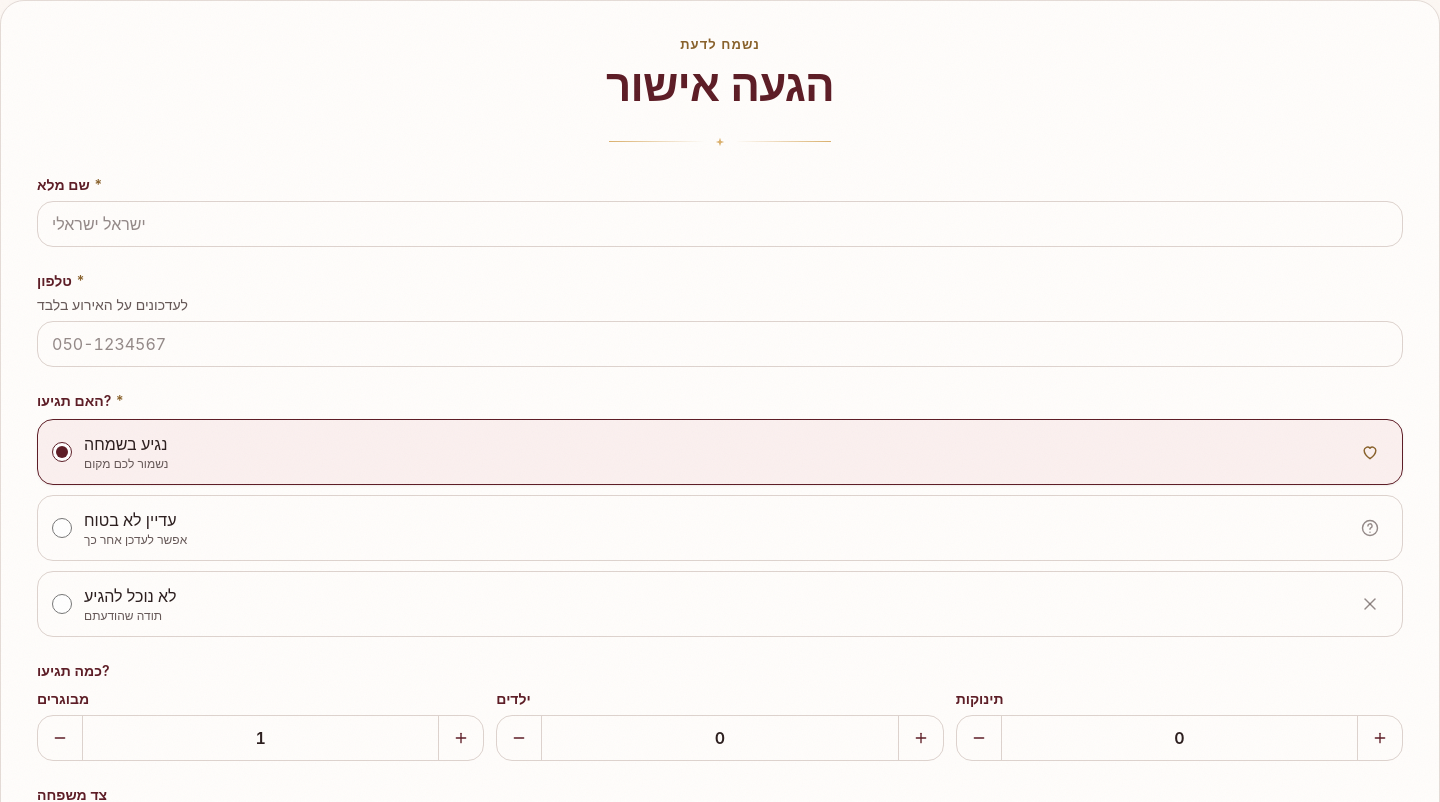
RsvpForm › after a rejected submission › reopens the counts when the rejected answer was an acceptance
Click the radio button labelled "לא נוכל להגיע" at coordinates (62, 604), box 52,594 -> 72,614
(page scrolled)
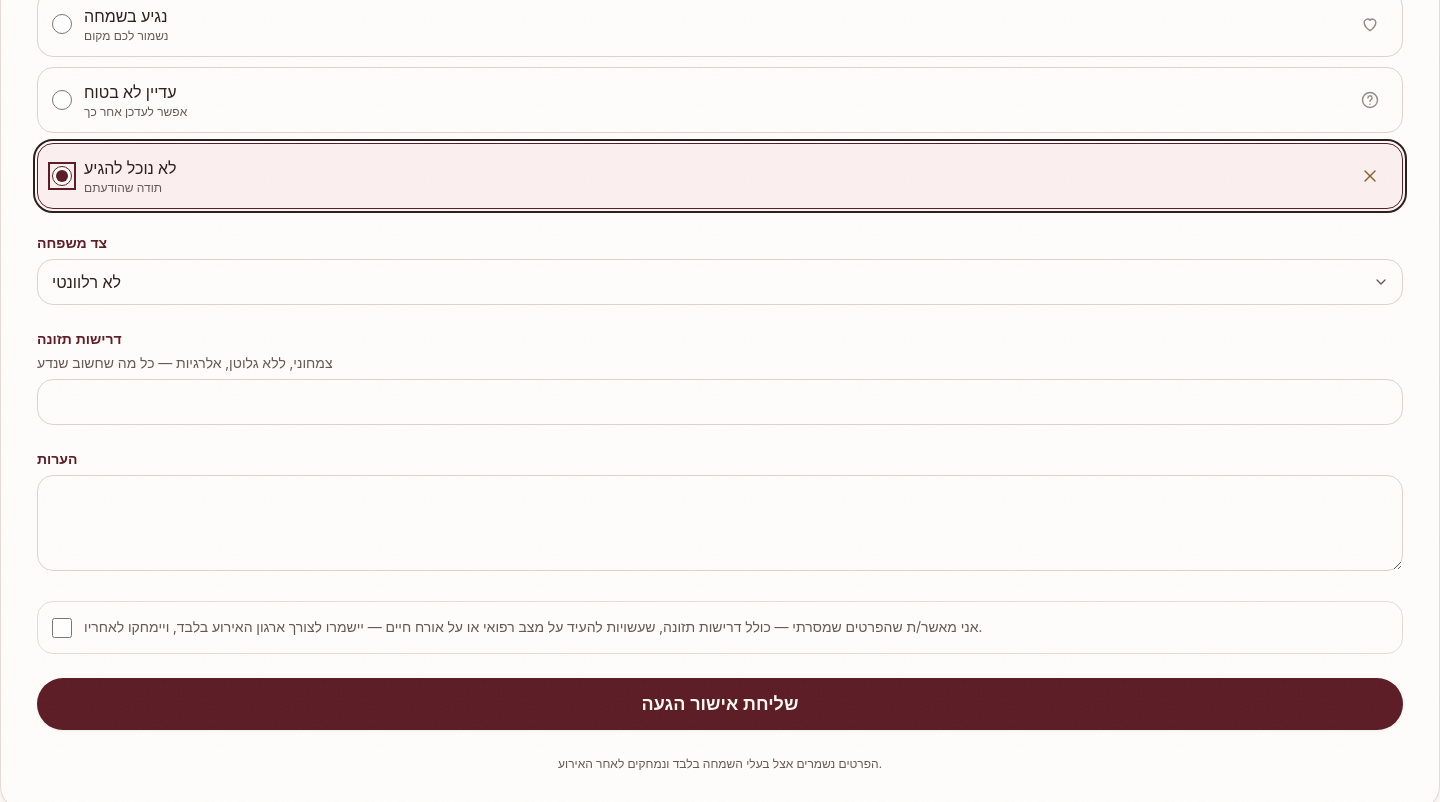
expect the label labelled "מבוגרים" is gone: met
Click the button "שליחת אישור הגעה" at coordinates (720, 704), box 37,678 -> 1403,730
(page scrolled)
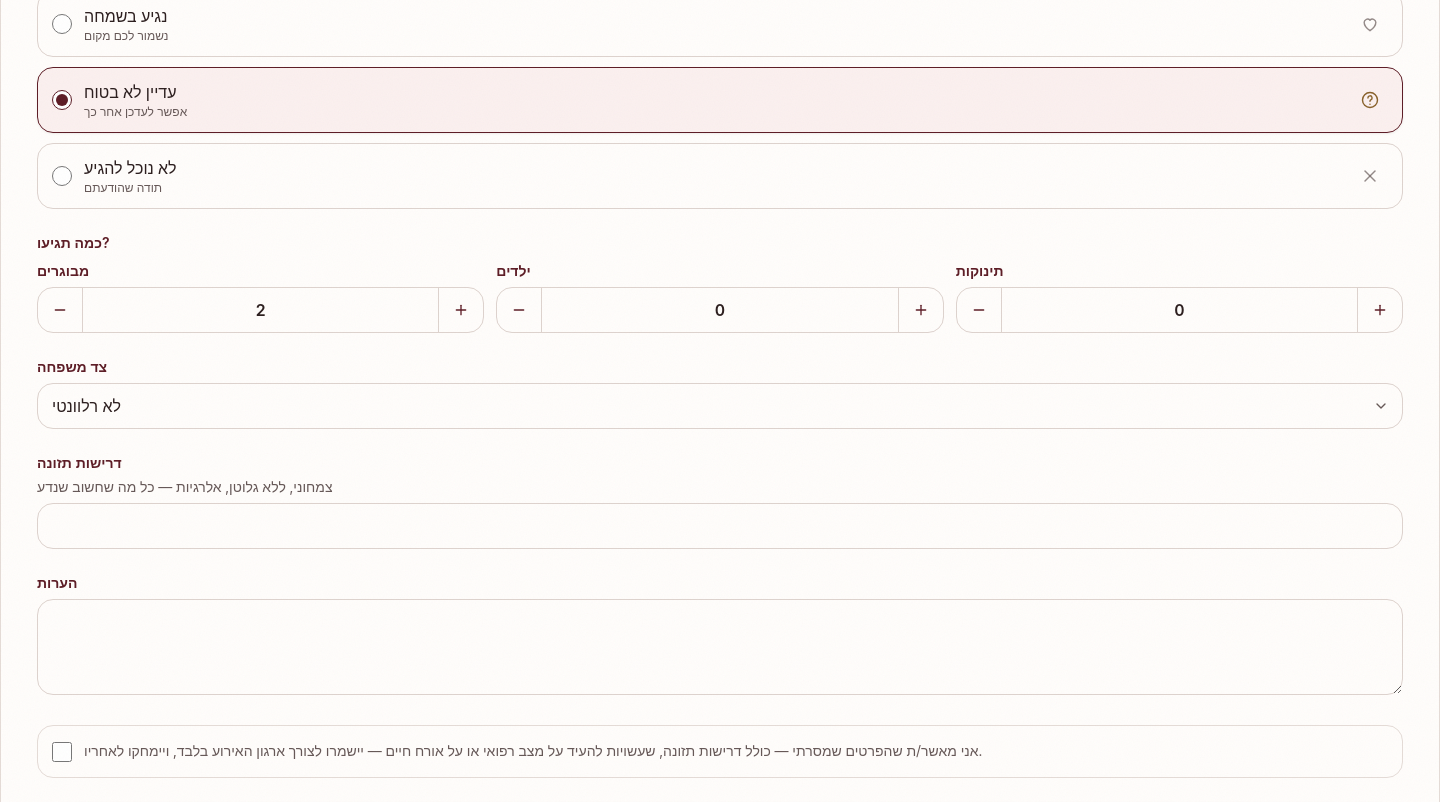
expect the number field labelled "מבוגרים" holds "2": met, box 82,288 -> 439,332
